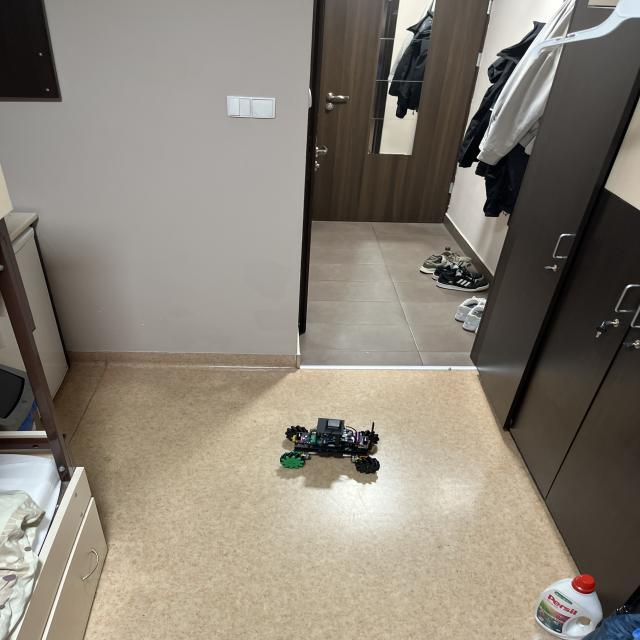robot: (281, 418, 380, 475)
